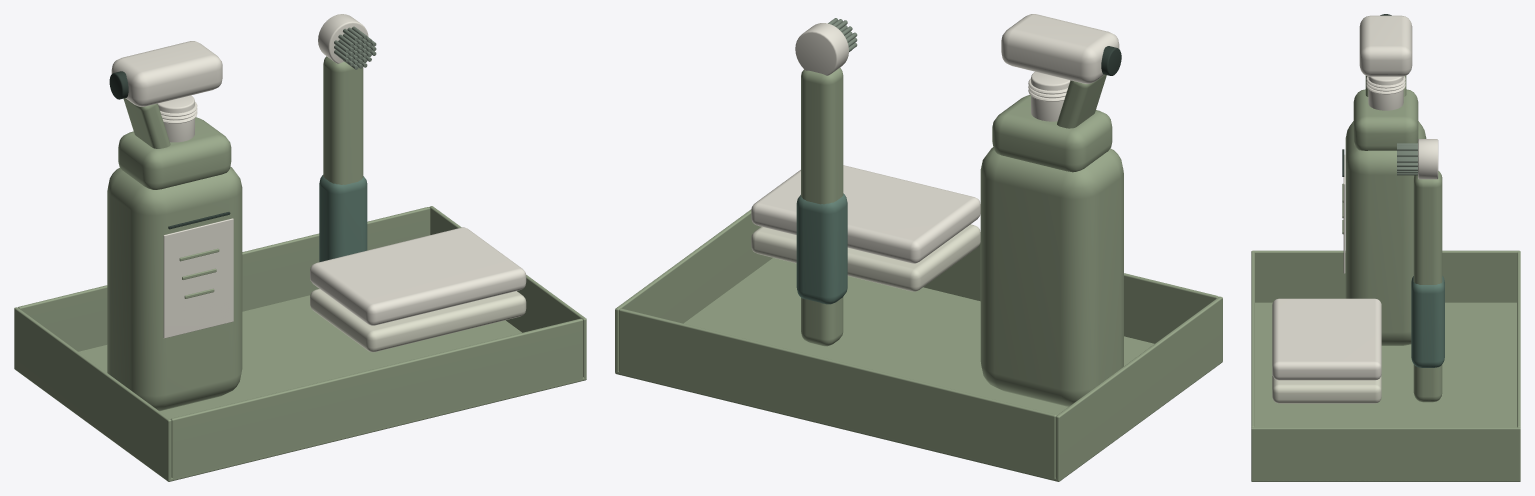
The model's file is auto-reset.glb.
The picture shows the model from 3 angles, left to right: view 1: azimuth 30°, elevation 25°; view 2: azimuth 150°, elevation 25°; view 3: azimuth 270°, elevation 25°; orthographic projection. The views are drawn at different scales.
Parts seen in each view (by area): view 1: Separated auto-care tray front, 250 mL interior-care proposal molded body, Separated auto-care tray floor, Folded task cloth.001, Separated auto-care tray left, Separated auto-care tray back, 250 mL interior-care proposal task label, Folded task cloth, 250 mL interior-care proposal shoulder, 250 mL interior-care proposal trigger head, Manual detail brush handle, Manual detail brush soft grip (+4 smaller); view 2: 250 mL interior-care proposal molded body, Separated auto-care tray back, Separated auto-care tray floor, Separated auto-care tray left, Folded task cloth.001, Manual detail brush handle, Separated auto-care tray right, Separated auto-care tray front, 250 mL interior-care proposal shoulder, 250 mL interior-care proposal trigger head, Manual detail brush soft grip, Folded task cloth (+3 smaller); view 3: Separated auto-care tray floor, Separated auto-care tray right, 250 mL interior-care proposal molded body, Folded task cloth.001, Separated auto-care tray left, Manual detail brush handle, 250 mL interior-care proposal trigger head, 250 mL interior-care proposal shoulder, Manual detail brush soft grip, Folded task cloth, 250 mL interior-care proposal neck, Manual detail brush head (+3 smaller).
Boxes of the visible parts, left/top/right/bottom form: Separated auto-care tray front: left=170, top=318, right=582, bottom=480; 250 mL interior-care proposal molded body: left=107, top=166, right=242, bottom=411; Separated auto-care tray floor: left=15, top=295, right=586, bottom=481; Folded task cloth.001: left=310, top=227, right=526, bottom=325; Separated auto-care tray left: left=14, top=307, right=171, bottom=481; Separated auto-care tray back: left=18, top=207, right=430, bottom=351; 250 mL interior-care proposal task label: left=163, top=218, right=233, bottom=338; Folded task cloth: left=310, top=289, right=526, bottom=352; 250 mL interior-care proposal shoulder: left=118, top=117, right=231, bottom=189; 250 mL interior-care proposal trigger head: left=111, top=41, right=222, bottom=106; Manual detail brush handle: left=323, top=56, right=363, bottom=184; Manual detail brush soft grip: left=319, top=175, right=367, bottom=261; 250 mL interior-care proposal molded body: left=980, top=147, right=1123, bottom=406; Separated auto-care tray back: left=619, top=308, right=1056, bottom=480; Separated auto-care tray floor: left=615, top=258, right=1222, bottom=481; Separated auto-care tray left: left=1055, top=296, right=1222, bottom=481; Folded task cloth.001: left=751, top=165, right=980, bottom=263; Manual detail brush handle: left=801, top=68, right=843, bottom=346; Separated auto-care tray right: left=615, top=209, right=772, bottom=373; Separated auto-care tray front: left=923, top=243, right=1218, bottom=343; 250 mL interior-care proposal shoulder: left=992, top=95, right=1112, bottom=172; 250 mL interior-care proposal trigger head: left=1001, top=14, right=1119, bottom=83; Manual detail brush soft grip: left=796, top=193, right=847, bottom=304; Folded task cloth: left=751, top=224, right=980, bottom=291; Separated auto-care tray floor: left=1251, top=302, right=1520, bottom=481; Separated auto-care tray right: left=1251, top=427, right=1520, bottom=481; 250 mL interior-care proposal molded body: left=1345, top=121, right=1426, bottom=345; Folded task cloth.001: left=1272, top=298, right=1381, bottom=380; Separated auto-care tray left: left=1251, top=250, right=1520, bottom=302; Manual detail brush handle: left=1413, top=171, right=1442, bottom=402; 250 mL interior-care proposal trigger head: left=1359, top=15, right=1412, bottom=76; 250 mL interior-care proposal shoulder: left=1353, top=89, right=1418, bottom=150; Manual detail brush soft grip: left=1411, top=276, right=1444, bottom=367; Folded task cloth: left=1272, top=375, right=1381, bottom=403; 250 mL interior-care proposal neck: left=1368, top=76, right=1403, bottom=110; Manual detail brush head: left=1418, top=139, right=1438, bottom=179.
Size of the model in its own units: 0.25 by 0.2 by 0.16.
